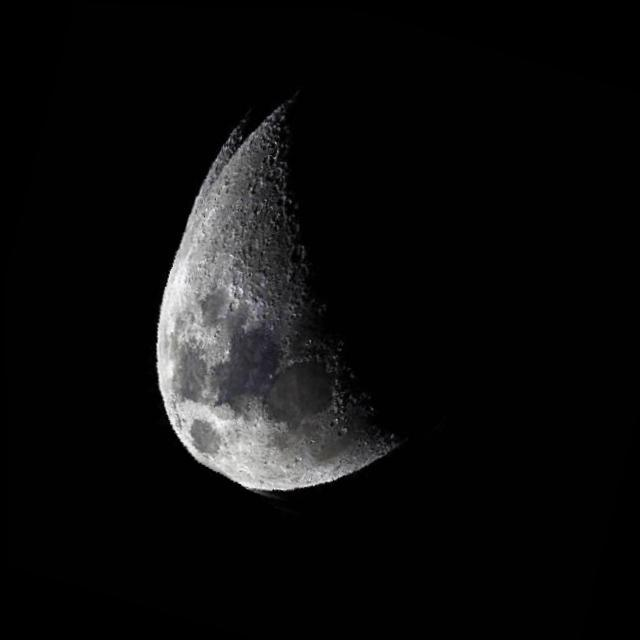moon: (103, 13, 592, 580)
